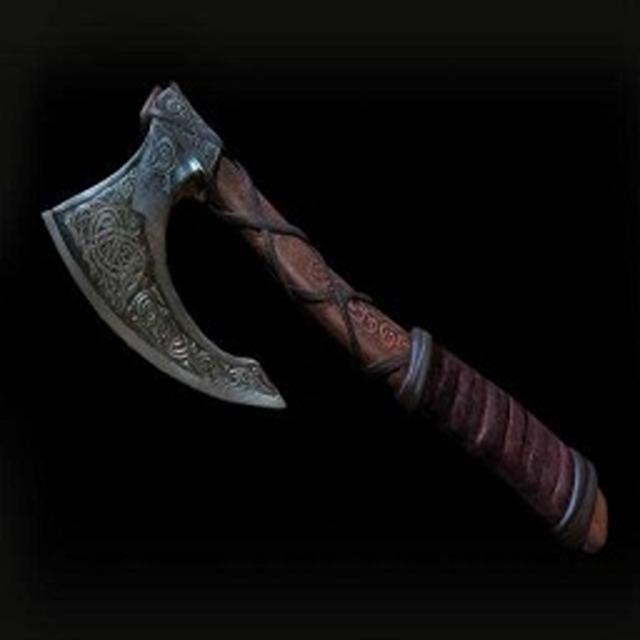ax: (32, 71, 620, 572)
